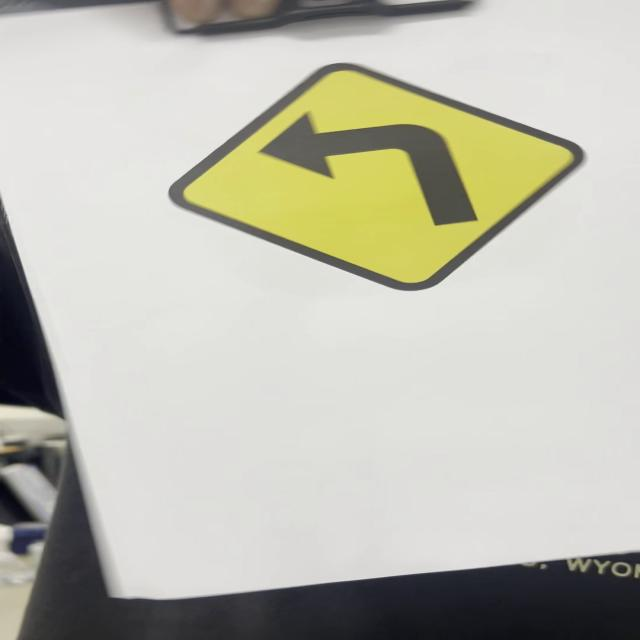left: (169, 67, 584, 291)
